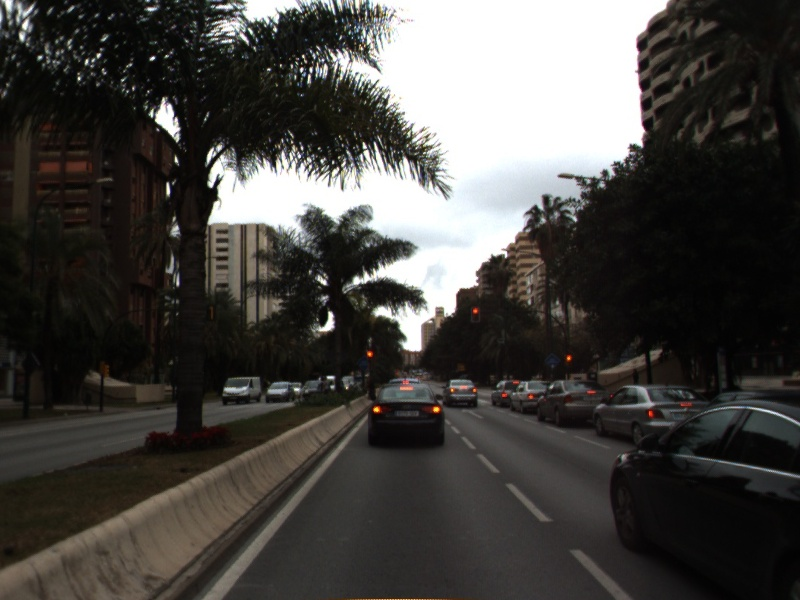STRAIGHT: (460, 406, 486, 421)
